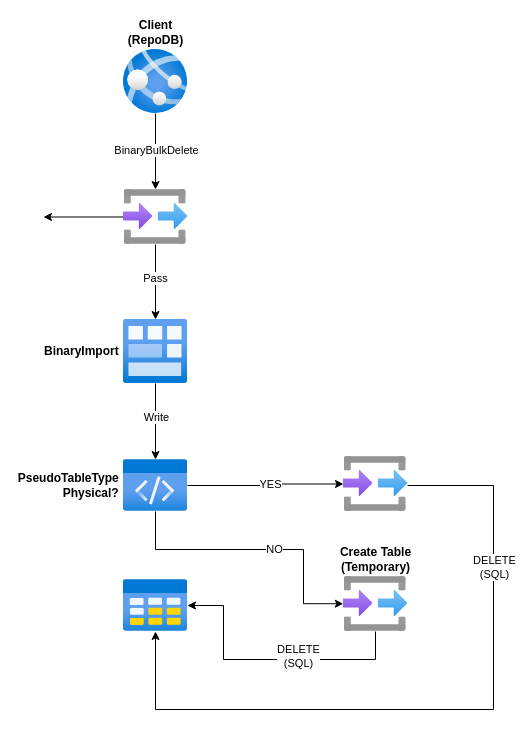
Some shapes in this 532 by 735 pixel diagram are drawn without their labels. Here are the shapes that lost their labels. From the top down, the centre of each, then its label:
At point (155, 216): "DbDataReader IEnumerable<T> DataTable".
At point (375, 483): "Create Table (Physical)".
